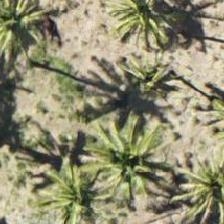coconut_tree: (70, 108, 160, 198), (23, 149, 113, 223), (93, 0, 183, 49), (176, 138, 223, 223), (0, 0, 46, 63)
